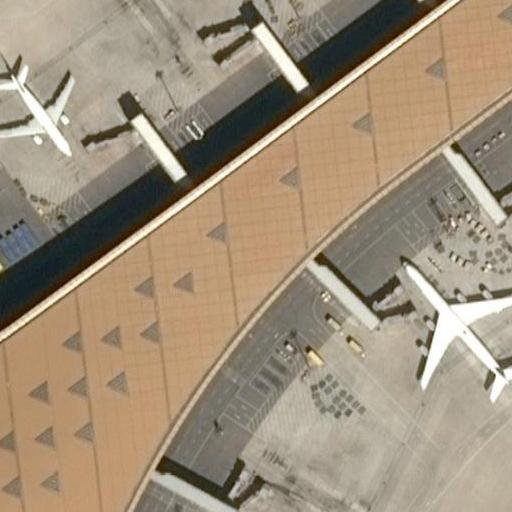Aircraft: (384, 252, 512, 411), (0, 44, 80, 158)
